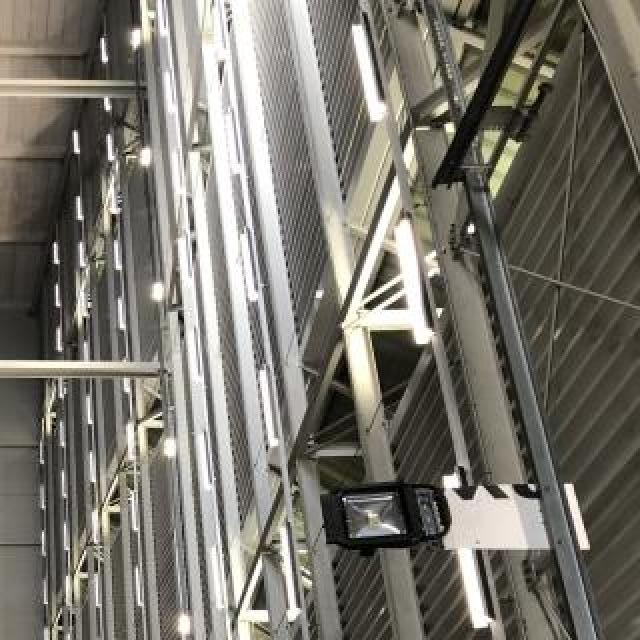fluorescent tube: (440, 460, 502, 640), (382, 206, 438, 357), (336, 16, 391, 125), (278, 518, 307, 620), (254, 353, 282, 456), (234, 225, 263, 311), (200, 542, 229, 620), (184, 314, 209, 391), (218, 104, 242, 178), (197, 420, 219, 500), (120, 413, 144, 467), (175, 227, 197, 285), (129, 558, 153, 611), (109, 291, 136, 338), (163, 145, 185, 202), (160, 63, 180, 125), (147, 2, 175, 40), (118, 351, 138, 402), (96, 126, 120, 166), (125, 486, 143, 538), (85, 503, 103, 547), (53, 461, 71, 502), (105, 175, 122, 217), (60, 569, 77, 611), (53, 414, 71, 452), (65, 122, 82, 162), (85, 449, 102, 489), (74, 239, 93, 272), (59, 514, 74, 555), (72, 284, 88, 322), (37, 572, 53, 608), (52, 323, 68, 357), (52, 372, 68, 403), (35, 525, 48, 563), (81, 390, 93, 431), (48, 237, 64, 266), (91, 571, 103, 609), (111, 232, 122, 272), (95, 33, 107, 69), (77, 335, 91, 365), (75, 191, 87, 222), (100, 84, 113, 112), (35, 439, 47, 467), (52, 283, 65, 308), (36, 484, 47, 509), (60, 626, 74, 640), (40, 624, 52, 640), (96, 632, 106, 640), (138, 638, 160, 640)
